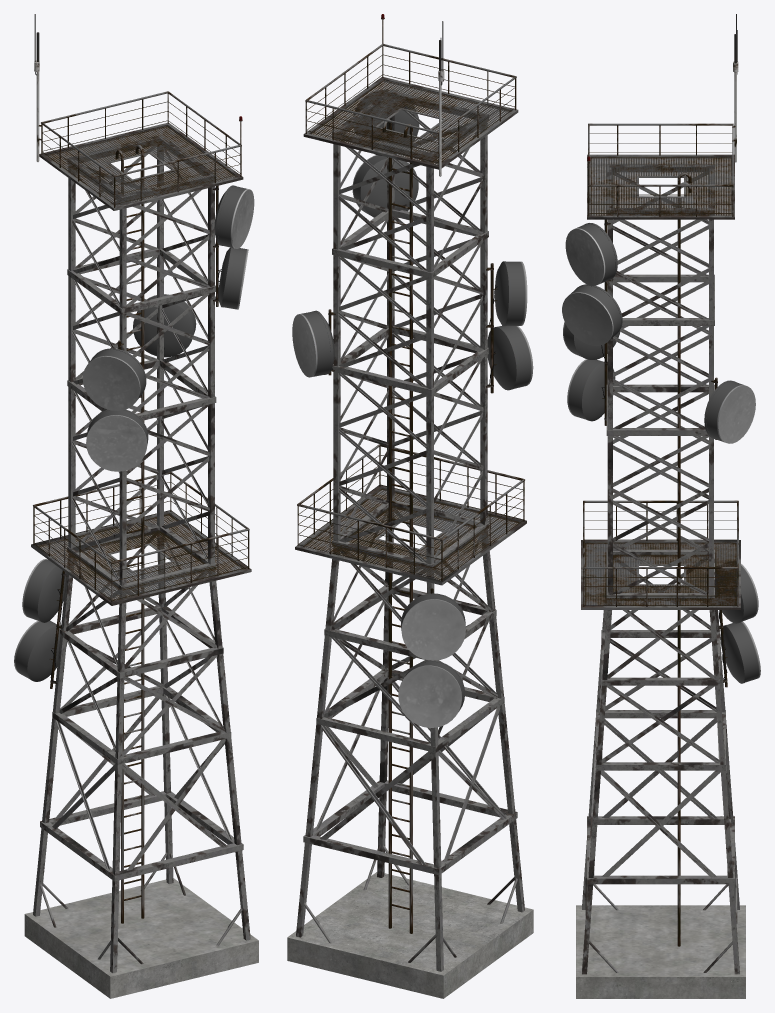
3 renders of one model, left to right at view 1: azimuth 30°, elevation 25°; view 2: azimuth 150°, elevation 25°; view 3: azimuth 270°, elevation 25°, orthographic. The views are drawn at different scales.
Parts seen in each view (by area): view 1: Tower; view 2: Tower; view 3: Tower.
Boxes of the visible parts, x1,y1,x2,y2 form: Tower: (14, 14, 258, 998); Tower: (287, 14, 533, 998); Tower: (562, 14, 760, 998).
Size of the model in its own units: 324 by 1665 by 328.
2 materials, 2 textured.
